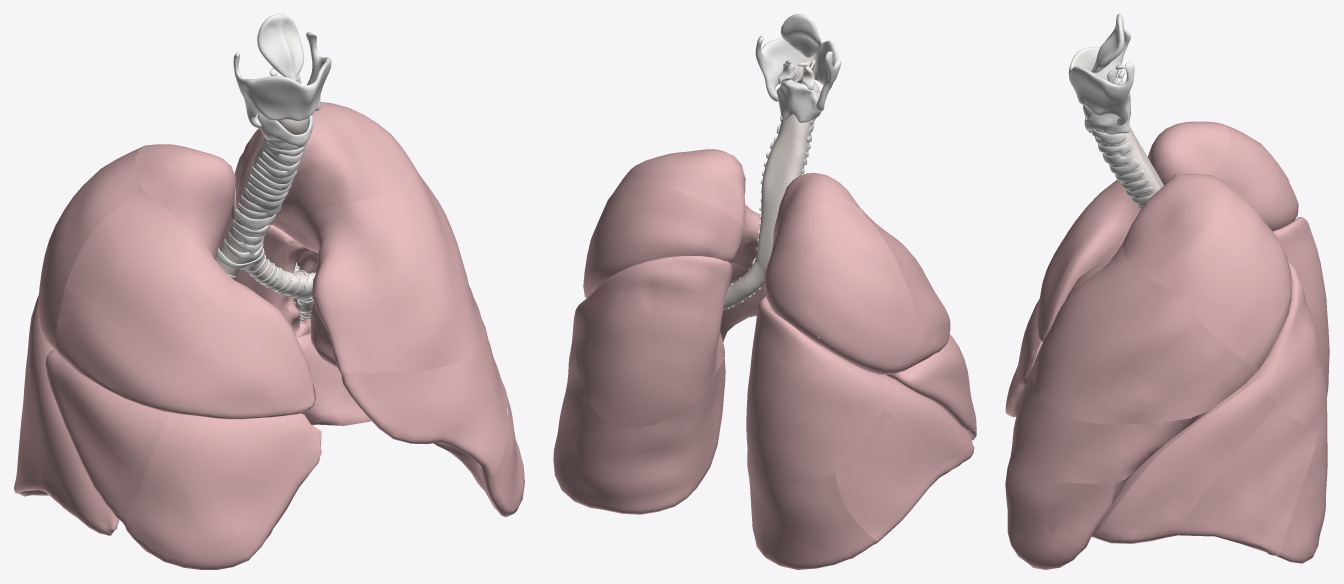
The model's file is hra-lung-male-v1.glb.
The picture shows the model from 3 angles, left to right: view 1: azimuth 30°, elevation 25°; view 2: azimuth 150°, elevation 25°; view 3: azimuth 270°, elevation 25°; orthographic projection. The views are drawn at different scales.
Visible parts, largest first — view 1: VH_M_right_anterior_bronchopulmonary_segment, VH_M_left_anterior_bronchopulmonary_segment, VH_M_right_medial_bronchopulmonary_segment, VH_M_left_lingula_superior_bronchopulmonary_segment, VH_M_left_apical_bronchopulmonary_segment, VH_M_right_lateral_bronchopulmonary_segment, VH_M_right_apical_bronchopulmonary_segment, VH_M_right_posterior_bronchopulmonary_segment, VH_M_right_anterior_basal_bronchopulmonary_segment, VH_M_thyroid_cartilage, VH_M_tracheal_cartilage, VH_M_left_lingula_inferior_bronchopulmonary_segment (+10 smaller); view 2: VH_M_left_superior_bronchopulmonary_segment, VH_M_right_posterior_bronchopulmonary_segment, VH_M_right_superior_bronchopulmonary_segment, VH_M_left_posetrior_basal_bronchopulmonary_segment, VH_M_left_posterior_bronchopulmonary_segment, VH_M_right_posterior_basal_bronchopulmonary_segment, VH_M_right_lateral_basal_bronchopulmonary_segment, VH_M_left_apical_bronchopulmonary_segment, VH_M_right_anterior_basal_bronchopulmonary_segment, VH_M_trachea, VH_M_right_lateral_bronchopulmonary_segment, VH_M_right_anterior_bronchopulmonary_segment (+8 smaller); view 3: VH_M_left_anterior_bronchopulmonary_segment, VH_M_left_lateral_basal_bronchopulmonary_segment, VH_M_left_posterior_bronchopulmonary_segment, VH_M_left_anterior_basal_bronchopulmonary_segment, VH_M_left_lingula_superior_bronchopulmonary_segment, VH_M_left_apical_bronchopulmonary_segment, VH_M_left_lingula_inferior_bronchopulmonary_segment, VH_M_right_anterior_bronchopulmonary_segment, VH_M_left_superior_bronchopulmonary_segment, VH_M_right_posterior_bronchopulmonary_segment, VH_M_right_apical_bronchopulmonary_segment, VH_M_left_posetrior_basal_bronchopulmonary_segment (+8 smaller).
Boxes of the visible parts, x1,y1,x2,y2 form: VH_M_right_anterior_bronchopulmonary_segment: [56, 189, 315, 419]; VH_M_left_anterior_bronchopulmonary_segment: [307, 171, 486, 372]; VH_M_right_medial_bronchopulmonary_segment: [125, 412, 321, 569]; VH_M_left_lingula_superior_bronchopulmonary_segment: [338, 328, 507, 477]; VH_M_left_apical_bronchopulmonary_segment: [240, 102, 417, 240]; VH_M_right_lateral_bronchopulmonary_segment: [45, 349, 169, 525]; VH_M_right_apical_bronchopulmonary_segment: [135, 144, 235, 259]; VH_M_right_posterior_bronchopulmonary_segment: [38, 146, 143, 355]; VH_M_right_anterior_basal_bronchopulmonary_segment: [30, 342, 119, 535]; VH_M_thyroid_cartilage: [233, 31, 331, 128]; VH_M_tracheal_cartilage: [224, 139, 306, 259]; VH_M_left_lingula_inferior_bronchopulmonary_segment: [311, 318, 524, 517]; VH_M_left_superior_bronchopulmonary_segment: [575, 256, 732, 428]; VH_M_right_posterior_bronchopulmonary_segment: [764, 205, 927, 374]; VH_M_right_superior_bronchopulmonary_segment: [746, 296, 889, 483]; VH_M_left_posetrior_basal_bronchopulmonary_segment: [553, 359, 725, 514]; VH_M_left_posterior_bronchopulmonary_segment: [585, 172, 744, 294]; VH_M_right_posterior_basal_bronchopulmonary_segment: [747, 450, 876, 569]; VH_M_right_lateral_basal_bronchopulmonary_segment: [835, 408, 938, 542]; VH_M_left_apical_bronchopulmonary_segment: [624, 149, 745, 227]; VH_M_right_anterior_basal_bronchopulmonary_segment: [884, 374, 974, 477]; VH_M_trachea: [755, 59, 819, 278]; VH_M_right_lateral_bronchopulmonary_segment: [886, 334, 975, 431]; VH_M_right_anterior_bronchopulmonary_segment: [861, 209, 950, 358]; VH_M_left_anterior_bronchopulmonary_segment: [1032, 243, 1259, 424]; VH_M_left_lateral_basal_bronchopulmonary_segment: [1178, 404, 1317, 556]; VH_M_left_posterior_bronchopulmonary_segment: [1184, 200, 1292, 368]; VH_M_left_anterior_basal_bronchopulmonary_segment: [1091, 377, 1276, 543]; VH_M_left_lingula_superior_bronchopulmonary_segment: [1005, 365, 1254, 499]; VH_M_left_apical_bronchopulmonary_segment: [1123, 173, 1247, 299]; VH_M_left_lingula_inferior_bronchopulmonary_segment: [1006, 472, 1133, 569]; VH_M_right_anterior_bronchopulmonary_segment: [1036, 180, 1139, 341]; VH_M_left_superior_bronchopulmonary_segment: [1256, 260, 1327, 438]; VH_M_right_posterior_bronchopulmonary_segment: [1213, 124, 1298, 231]; VH_M_right_apical_bronchopulmonary_segment: [1138, 121, 1230, 211]; VH_M_left_posetrior_basal_bronchopulmonary_segment: [1277, 434, 1327, 563].
Bounding box in the file's own units: 0.2594 × 0.3146 × 0.1897.
